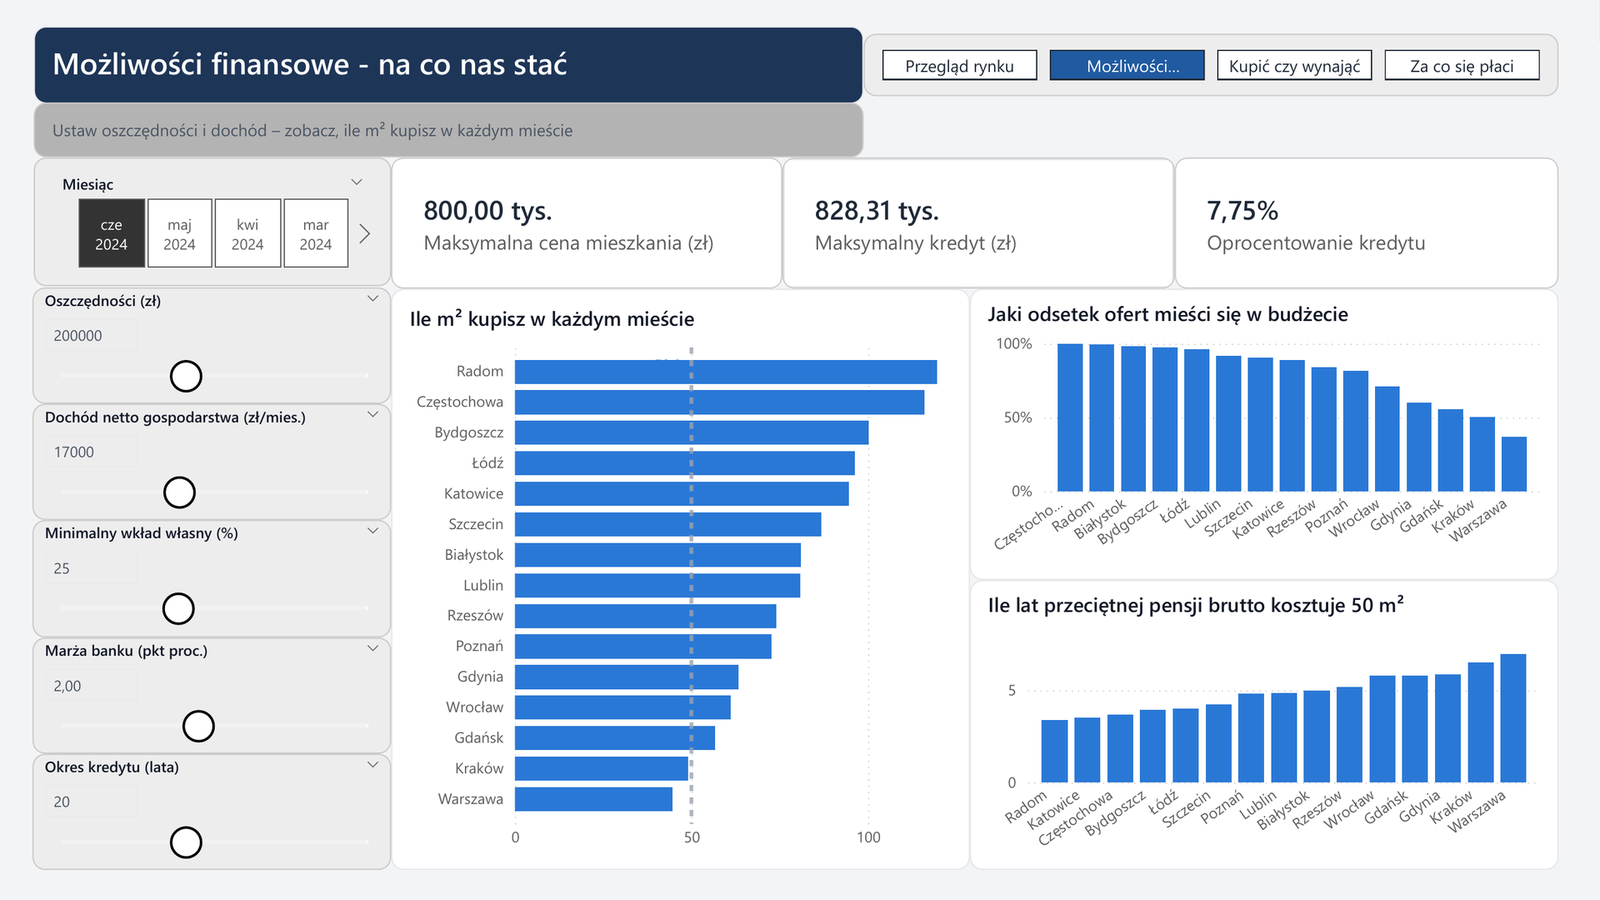

The page's visual inventory and layout, read from the dashboard file:
{"tool":"powerbi","page":{"name":"Możliwości Finansowe","canvas":[1280,720],"ordinal":1},"visuals":[{"type":"textbox","box":[26.5,21,664.3,61.9],"z":0},{"type":"textbox","box":[26.5,81.8,664.3,44.2],"z":1000},{"type":"pageNavigator","box":[690.8,26.5,556,50.8],"z":2000},{"type":"slicer","fields":{"Values":["dim_month.month_label"]},"box":[26.9,126.3,285.8,102.5],"z":3000},{"type":"slicer","fields":{"Values":["Savings.Savings"]},"box":[26.3,229.5,286.9,93.4],"z":4000},{"type":"slicer","fields":{"Values":["Net Income.Net Income"]},"box":[26.3,322.9,286.9,93.4],"z":5000},{"type":"slicer","fields":{"Values":["Down Payment.Down Payment"]},"box":[26.3,416.3,286.9,93.4],"z":6000},{"type":"slicer","fields":{"Values":["Loan Term.Loan Term"]},"box":[26.3,603,286.9,93.4],"z":7000},{"type":"slicer","fields":{"Values":["Bank Margin.Bank Margin"]},"box":[26.3,509.7,286.9,93.4],"z":8000},{"type":"cardVisual","title":"Mediana ceny za m² (zł)","fields":{"Data":["_Measures.Max Budget"]},"box":[313.2,126.4,313.2,104.1],"z":9000},{"type":"cardVisual","title":"Mediana ceny za m² (zł)","fields":{"Data":["_Measures.Max Loan"]},"box":[626.4,126.4,313.2,104.1],"z":10000},{"type":"cardVisual","title":"Mediana ceny za m² (zł)","fields":{"Data":["_Measures.Mortgage Rate"]},"box":[939.6,126.4,307.4,104.1],"z":11000},{"type":"clusteredBarChart","title":"Ile m² kupisz w każdym mieście","fields":{"Category":["dim_city.city_name"],"Y":["_Measures.Affordable m2"]},"box":[313.2,230.5,463,465.9],"z":12000},{"type":"clusteredColumnChart","title":"Jaki odsetek ofert mieści się w budżecie","fields":{"Category":["dim_city.city_name"],"Y":["_Measures.Offers Within Budget %"]},"box":[776.2,230.5,470.8,233.4],"z":13000},{"type":"clusteredColumnChart","title":"Ile lat przeciętnej pensji brutto kosztuje 50 m²","fields":{"Category":["dim_city.city_name"],"Y":["_Measures.Years of Pay for 50 m2"]},"box":[776.2,464,470.8,232.5],"z":14000}]}

Visuals, with their boxes in screenshot pixels (x1, y1, x2, y2), scaled from the page's 1280x720 canvas onto the 1600x900 screenshot:
textbox: <region>33, 26, 864, 104</region>
textbox: <region>33, 102, 864, 158</region>
pageNavigator: <region>864, 33, 1558, 97</region>
slicer - dim_month.month_label: <region>34, 158, 391, 286</region>
slicer - Savings.Savings: <region>33, 287, 392, 404</region>
slicer - Net Income.Net Income: <region>33, 404, 392, 520</region>
slicer - Down Payment.Down Payment: <region>33, 520, 392, 637</region>
slicer - Loan Term.Loan Term: <region>33, 754, 392, 870</region>
slicer - Bank Margin.Bank Margin: <region>33, 637, 392, 754</region>
"Mediana ceny za m² (zł)" cardVisual: <region>392, 158, 783, 288</region>
"Mediana ceny za m² (zł)" cardVisual: <region>783, 158, 1174, 288</region>
"Mediana ceny za m² (zł)" cardVisual: <region>1174, 158, 1559, 288</region>
"Ile m² kupisz w każdym mieście" clusteredBarChart: <region>392, 288, 970, 870</region>
"Jaki odsetek ofert mieści się w budżecie" clusteredColumnChart: <region>970, 288, 1559, 580</region>
"Ile lat przeciętnej pensji brutto kosztuje 50 m²" clusteredColumnChart: <region>970, 580, 1559, 871</region>
